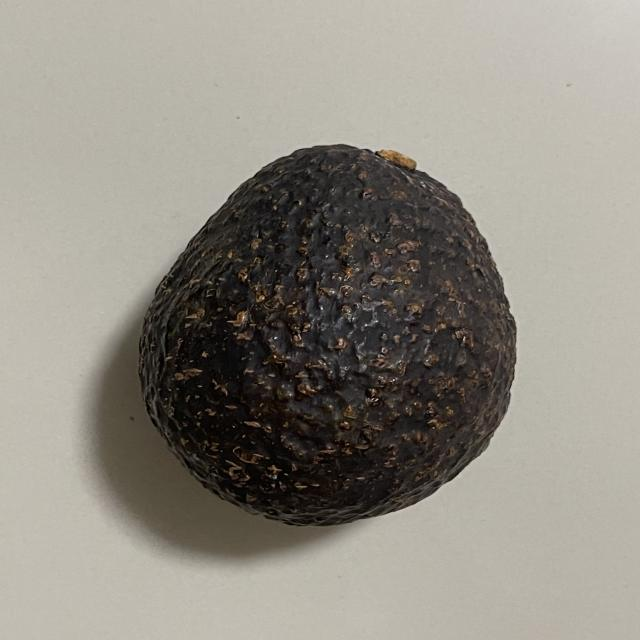Level3: (129, 135, 529, 534)
